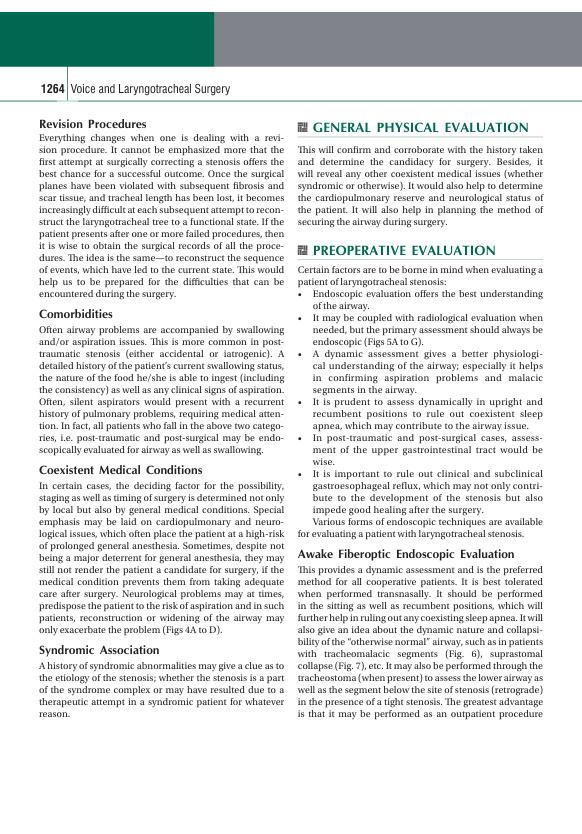header: (70, 81, 231, 97)
section-heading: (311, 120, 530, 134), (312, 243, 497, 257)
sub-section-heading: (297, 547, 515, 563), (38, 643, 161, 658), (38, 464, 204, 475), (38, 117, 147, 129), (38, 307, 115, 320)
text: (295, 263, 544, 541), (38, 132, 286, 301), (295, 564, 544, 722), (38, 480, 286, 637), (38, 324, 286, 457), (296, 143, 545, 229), (38, 660, 286, 719)
